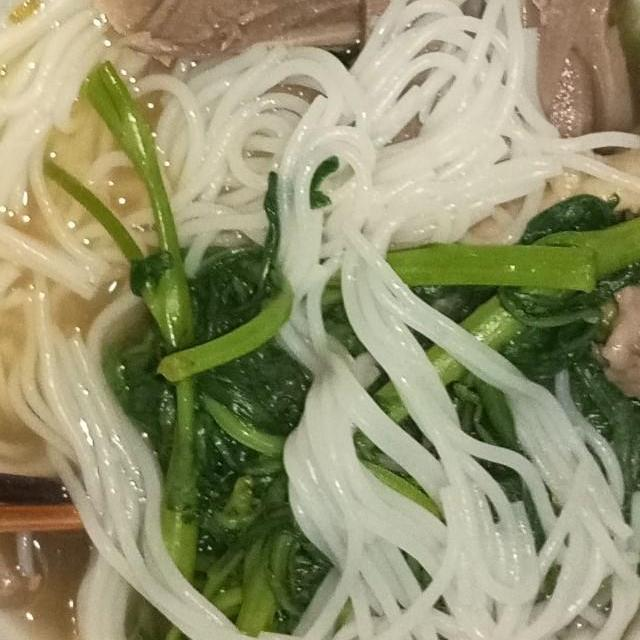bun: (214, 244, 640, 640), (189, 0, 640, 277), (0, 0, 212, 484)
